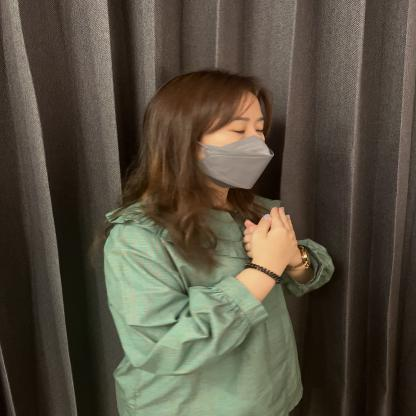Grieve: (155, 186, 410, 358)
